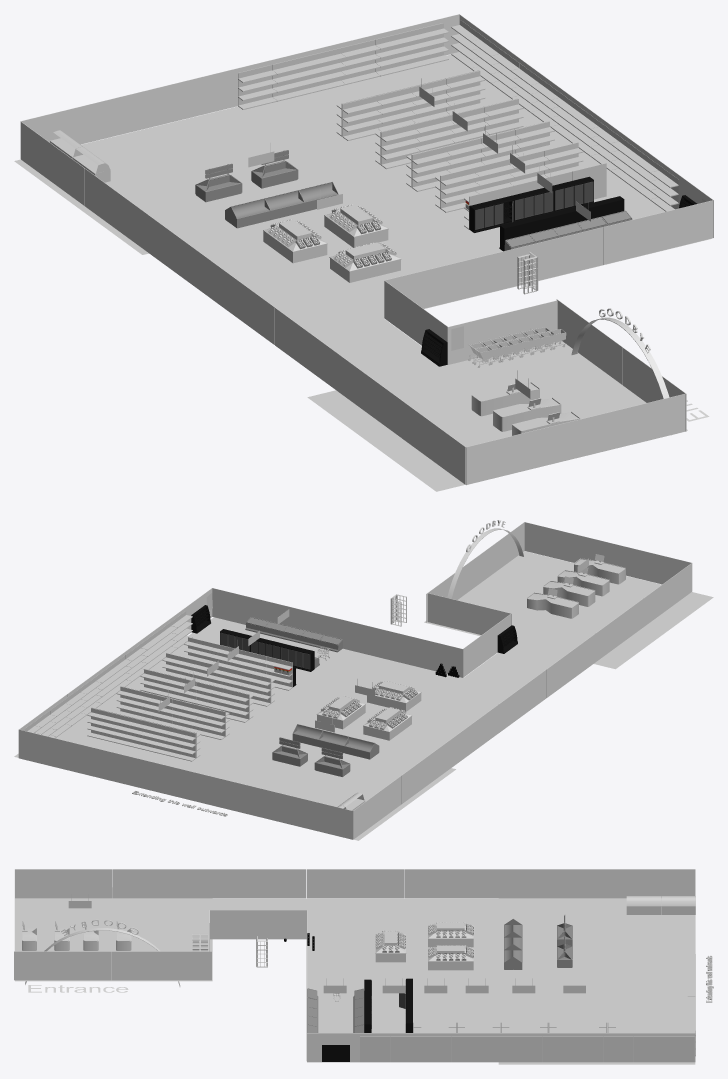
File: SupermarketLevelV8.FBX
3 views of the same model, one above another, from view 1: azimuth 30°, elevation 25°; view 2: azimuth 150°, elevation 25°; view 3: azimuth 270°, elevation 25° (orthographic). The views are drawn at different scales.
Parts seen in each view (by area): view 1: Plane008, Plane001, Plane003, Plane002, Long Wall 007, Long Wall 020, Long Wall 019, Long Wall 028, Long Wall 006, Long Wall 005, Long Wall 027, Long Wall 003 (+57 smaller); view 2: Plane001, Plane008, Plane003, Long Wall 028, Long Wall 030, Plane002, Long Wall 027, Long Wall 029, Long Wall 005, Long Wall 020, Long Wall 006, Long Wall 003 (+51 smaller); view 3: Plane008, Plane001, Plane003, Long Wall 022, Long Wall 014, Long Wall 016, Long Wall 017, Long Wall 024, Long Wall 015, Long Wall 018, Long Wall 021, Long Wall 004 (+31 smaller).
Part boxes in pixels (x1,y1,x2,y2): Plane008: [14, 54, 571, 254]; Plane001: [186, 151, 711, 335]; Plane003: [307, 341, 687, 491]; Plane002: [314, 315, 436, 381]; Long Wall 007: [603, 200, 713, 264]; Long Wall 020: [576, 393, 685, 458]; Long Wall 019: [466, 420, 575, 484]; Long Wall 028: [130, 67, 240, 132]; Long Wall 006: [494, 227, 603, 291]; Long Wall 005: [384, 253, 493, 308]; Long Wall 027: [21, 94, 130, 144]; Long Wall 003: [447, 300, 557, 364]; Plane001: [126, 617, 516, 762]; Plane008: [14, 694, 455, 840]; Plane003: [424, 551, 713, 669]; Long Wall 028: [185, 770, 269, 819]; Long Wall 030: [18, 729, 102, 778]; Plane002: [464, 644, 564, 690]; Long Wall 027: [269, 790, 352, 839]; Long Wall 029: [102, 750, 185, 798]; Long Wall 005: [379, 628, 462, 677]; Long Wall 020: [524, 522, 608, 563]; Long Wall 006: [295, 608, 379, 657]; Long Wall 003: [428, 593, 511, 634]; Plane008: [498, 898, 695, 1064]; Plane001: [306, 898, 502, 1061]; Plane003: [15, 887, 212, 981]; Long Wall 022: [111, 951, 211, 980]; Long Wall 014: [404, 869, 501, 898]; Long Wall 016: [209, 869, 306, 898]; Long Wall 017: [112, 869, 209, 898]; Long Wall 024: [501, 869, 598, 898]; Long Wall 015: [307, 869, 403, 898]; Long Wall 018: [15, 869, 111, 898]; Long Wall 021: [14, 951, 110, 980]; Long Wall 004: [210, 910, 306, 939].
Bounding box in the file's own units: 1091 × 190 × 1821.
